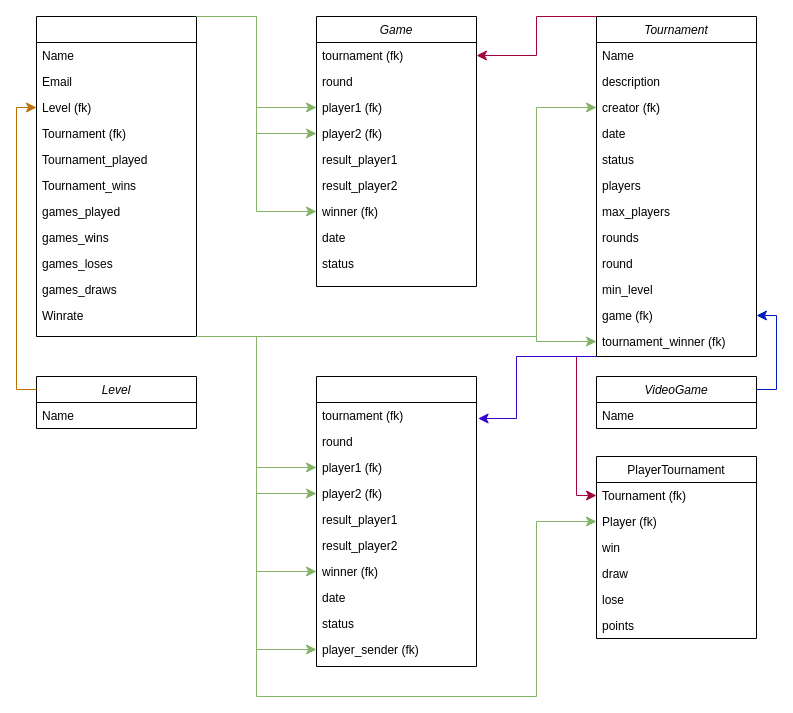
This 793x713 diagram has some shape labels left out. Each missing label, with the box of its shape:
GameAux: (316, 376, 476, 666)
Player: (36, 16, 196, 336)
